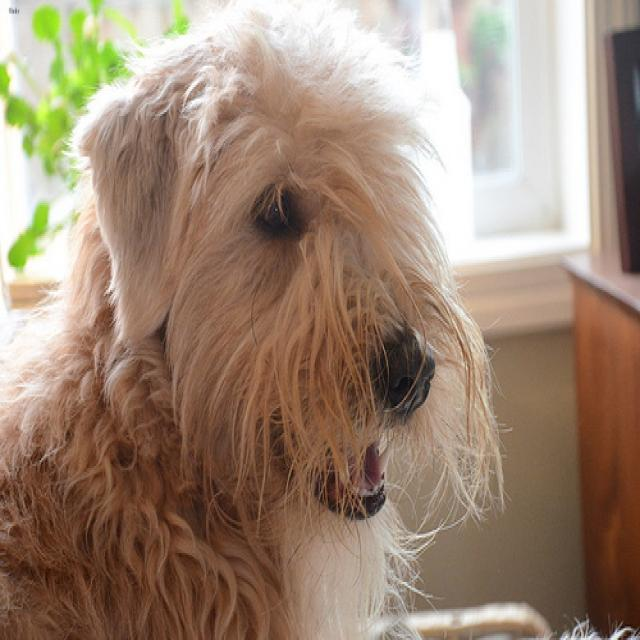dog-wheaten_terrier: (1, 2, 516, 636)
